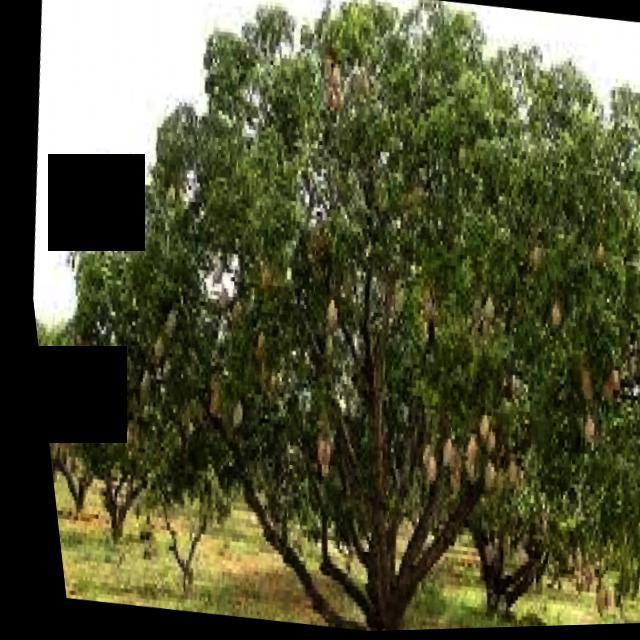Tree: (209, 1, 640, 636), (61, 225, 208, 559), (27, 297, 118, 536)
